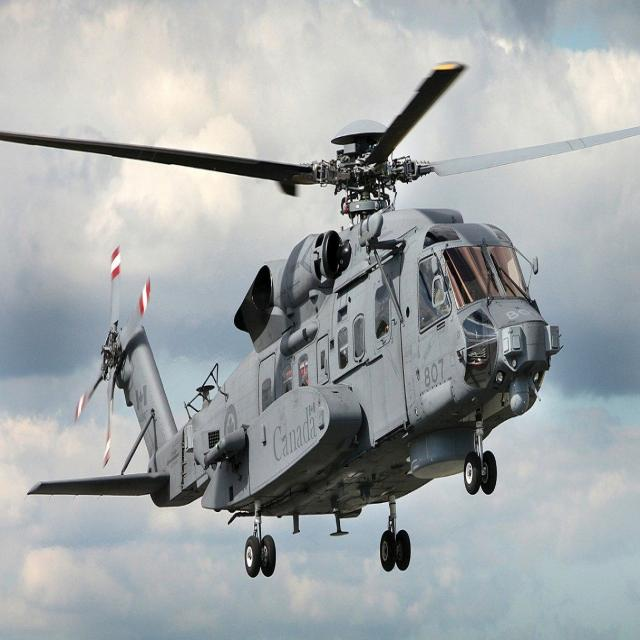helicopter: (1, 36, 569, 585)
